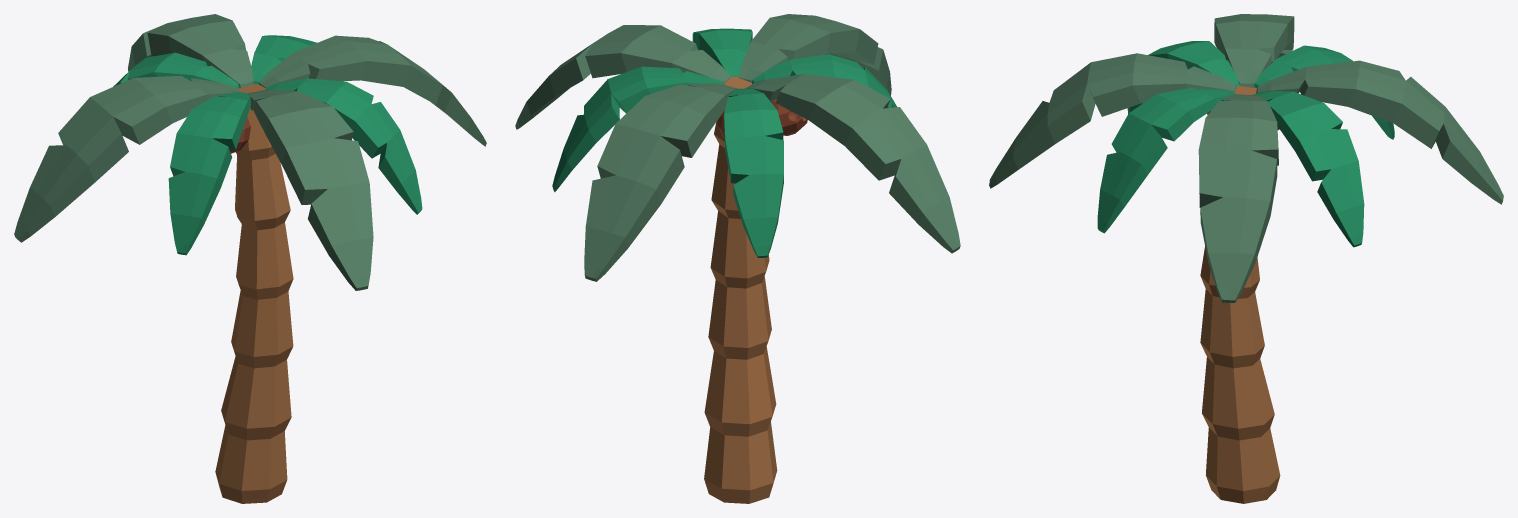
File: palm_tree_v2.fbx
3 views of the same model, side by side, from view 1: azimuth 30°, elevation 25°; view 2: azimuth 150°, elevation 25°; view 3: azimuth 270°, elevation 25° (orthographic).
Parts seen in each view (by area): view 1: Cube.010, Cylinder, Cube.005; view 2: Cube.010, Cylinder, Cube.005, Sphere.004; view 3: Cube.010, Cube.005, Cylinder.
Boxes of the visible parts, bbox=[...] form: Cube.010: bbox=[14, 14, 486, 290]; Cylinder: bbox=[215, 84, 293, 503]; Cube.005: bbox=[113, 35, 422, 255]; Cube.010: bbox=[515, 14, 960, 281]; Cylinder: bbox=[704, 76, 777, 503]; Cube.005: bbox=[552, 28, 896, 257]; Sphere.004: bbox=[771, 99, 807, 135]; Cube.010: bbox=[989, 14, 1503, 302]; Cube.005: bbox=[1097, 41, 1394, 247]; Cylinder: bbox=[1200, 86, 1280, 503].
Bounding box in the file's own units: 1602 × 1436 × 1589.
